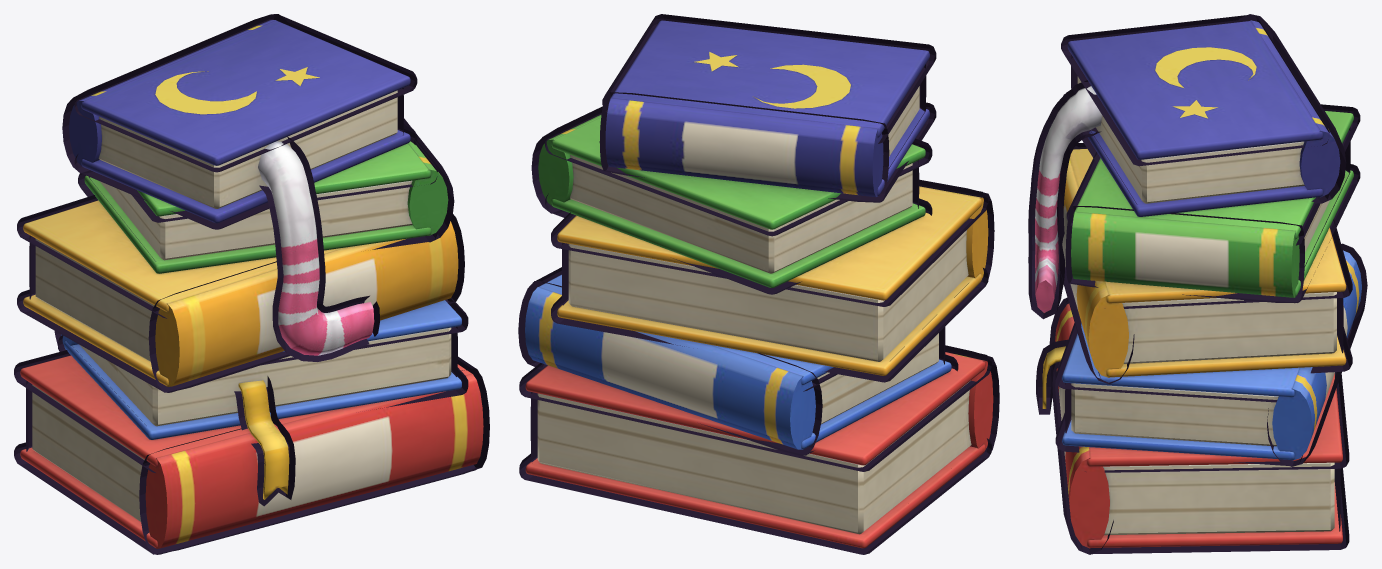
File: BookStack.glb
3 views of the same model, side by side, from view 1: azimuth 30°, elevation 25°; view 2: azimuth 150°, elevation 25°; view 3: azimuth 270°, elevation 25° (orthographic). The views are drawn at different scales.
Parts seen in each view (by area): view 1: BookStack, BookStack_Outline; view 2: BookStack, BookStack_Outline; view 3: BookStack, BookStack_Outline.
Part boxes in pixels (bbox=[...]): BookStack: bbox=[20, 20, 483, 548]; BookStack_Outline: bbox=[14, 14, 489, 554]; BookStack: bbox=[525, 20, 993, 548]; BookStack_Outline: bbox=[518, 14, 999, 554]; BookStack: bbox=[1035, 20, 1361, 548]; BookStack_Outline: bbox=[1028, 14, 1367, 554].
Bounding box in the file's own units: 4.08 × 4.23 × 3.33.
2 materials, 2 textured.
